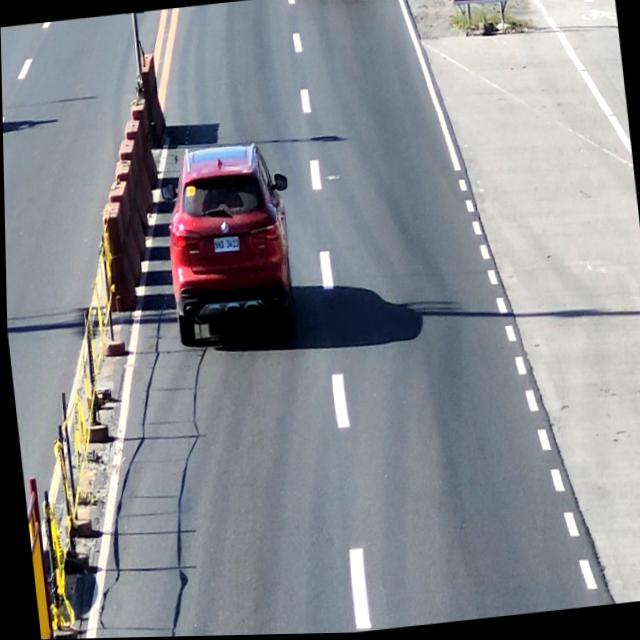Car: (159, 140, 302, 362)
License-Plate: (211, 233, 240, 256)
